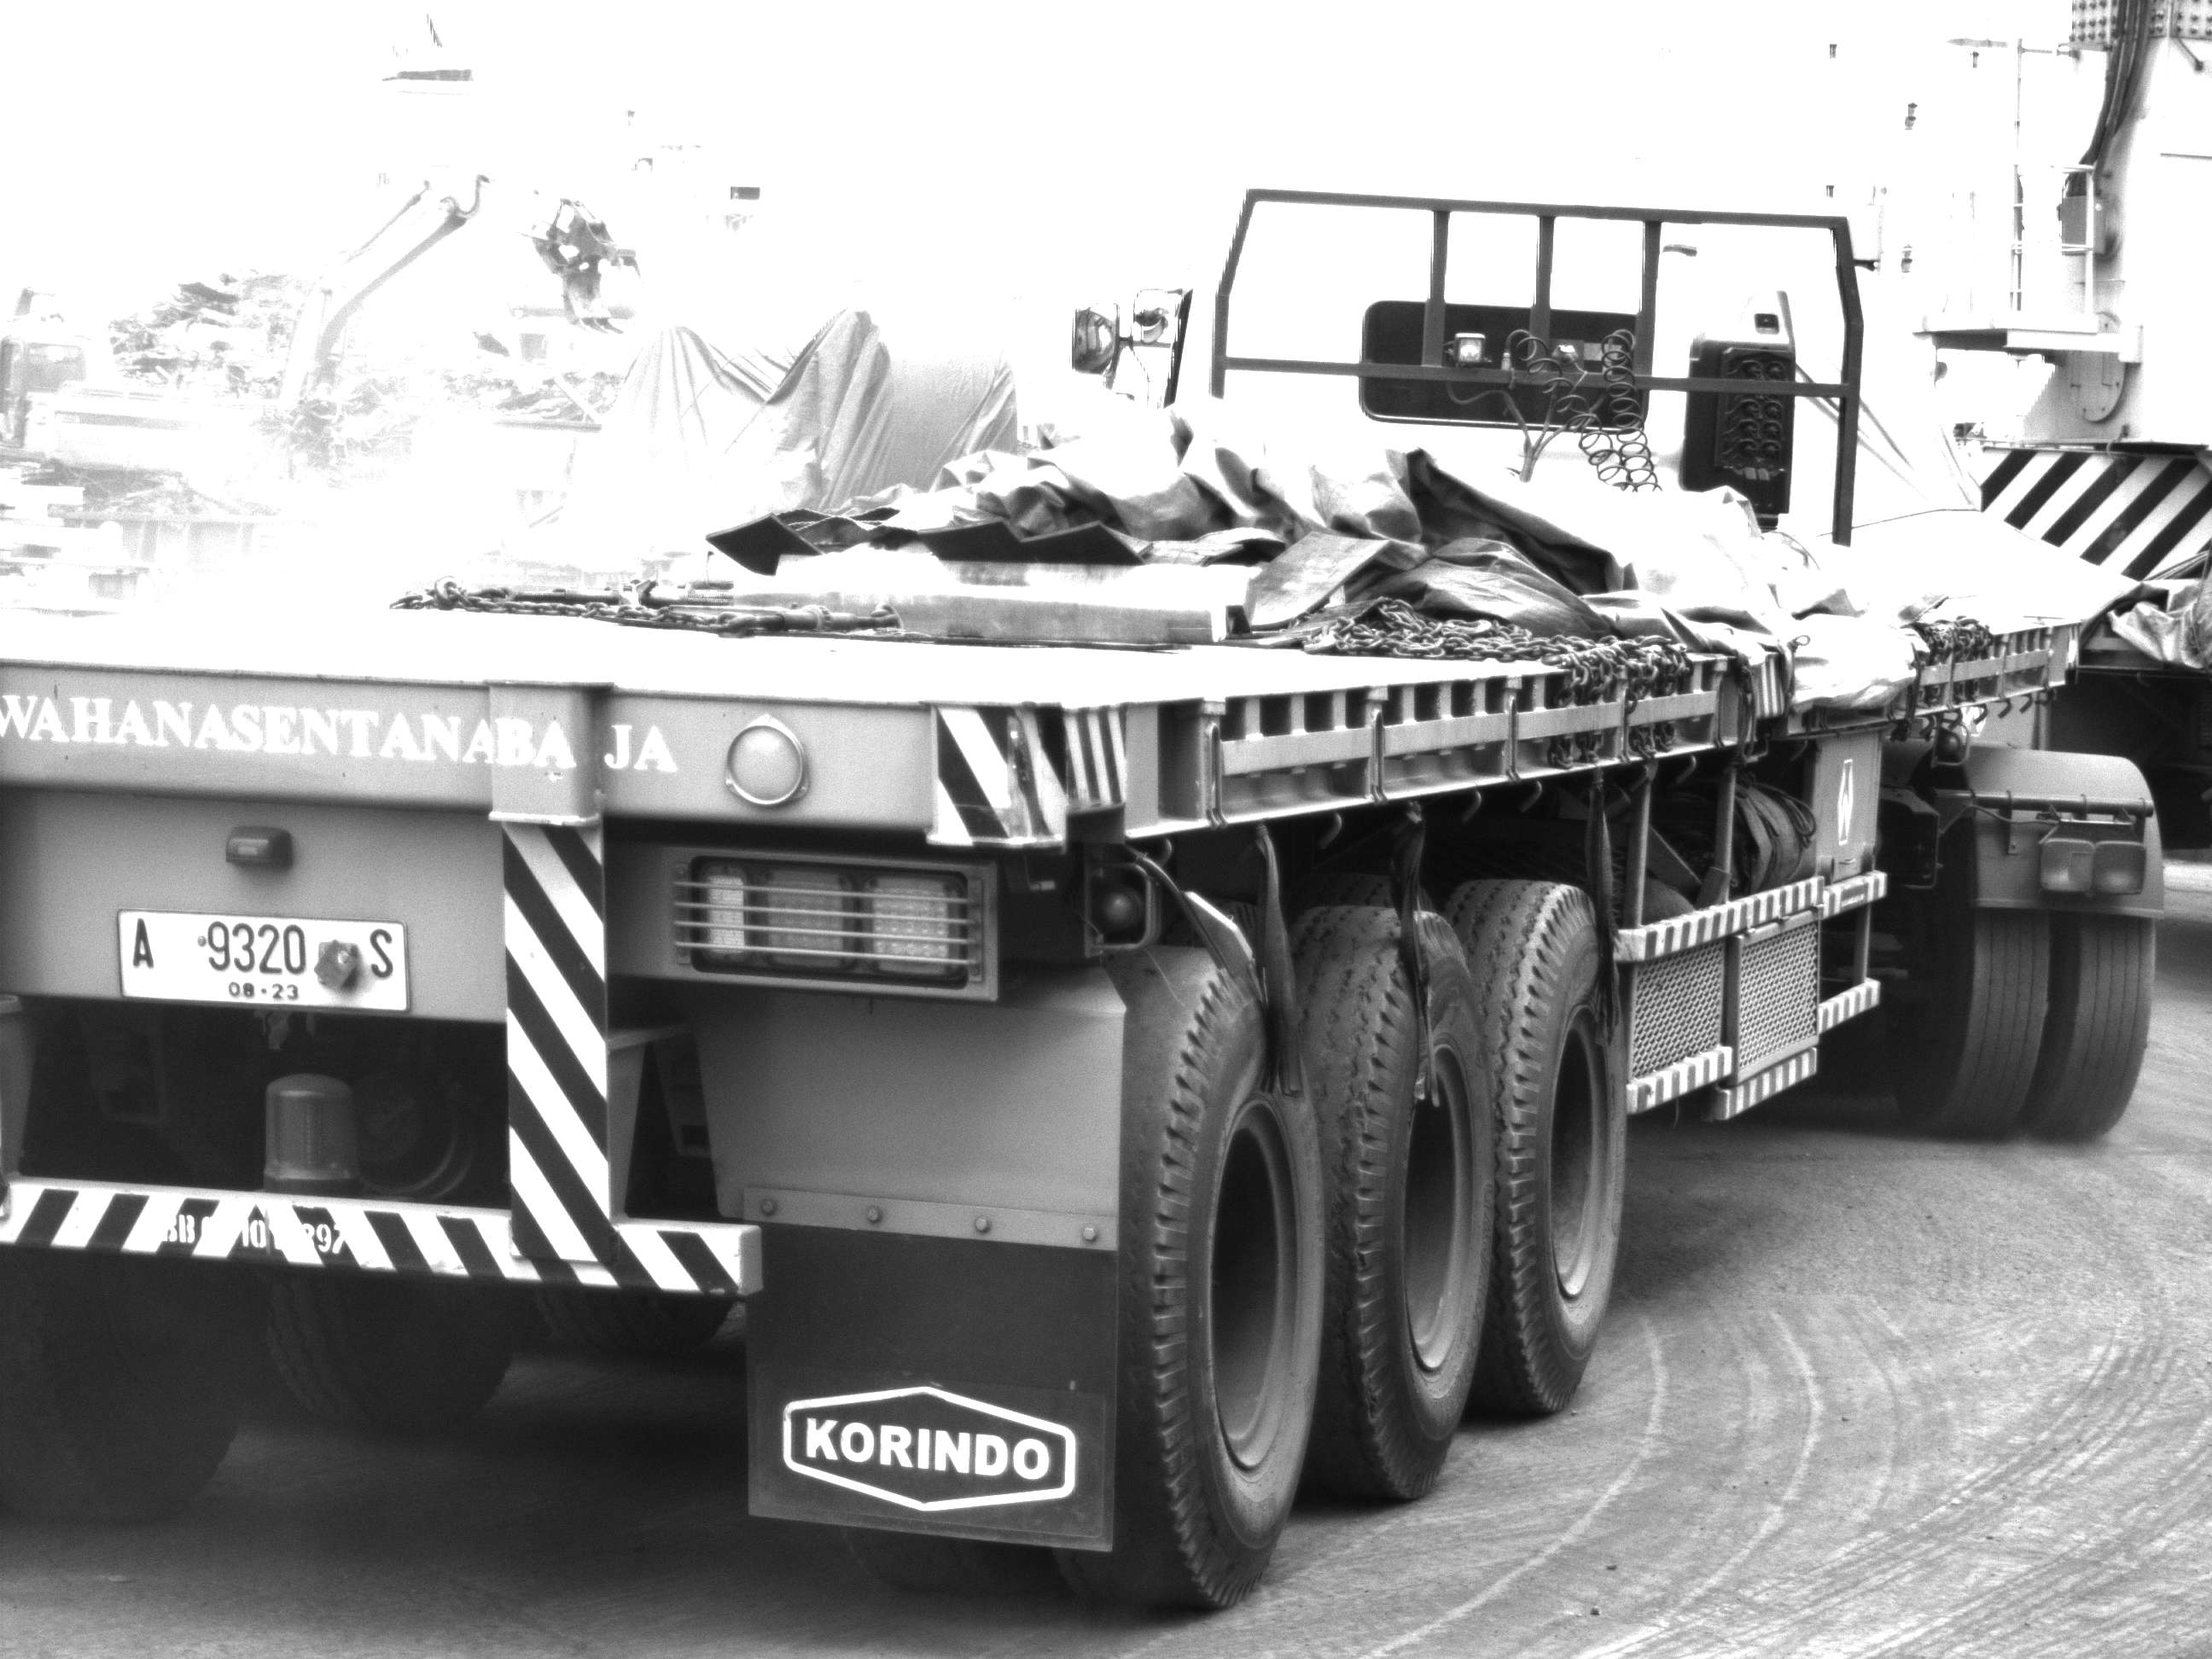truck_backside: (2, 159, 2186, 1614)
